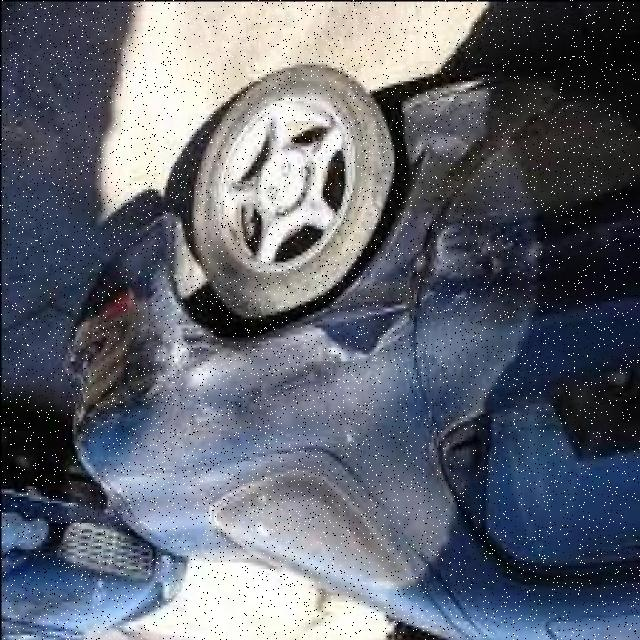damage: (136, 265, 411, 465), (355, 84, 548, 292), (419, 215, 500, 282)
